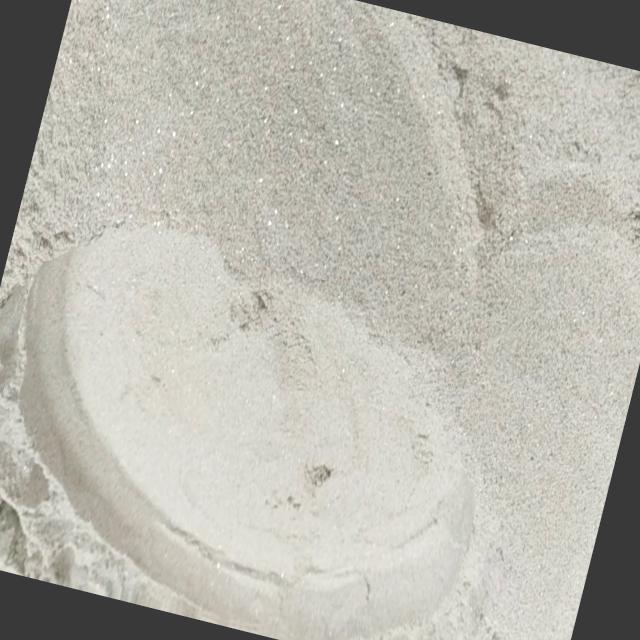C40: (12, 227, 470, 640)
